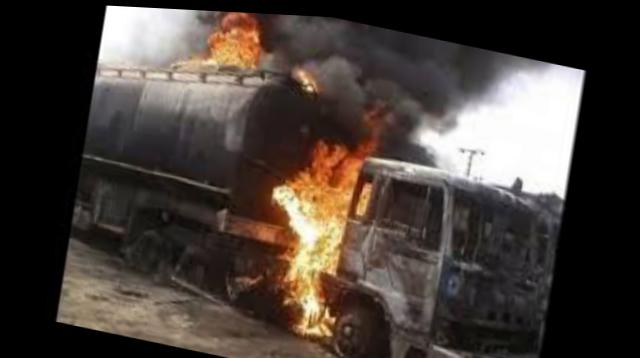fire: (246, 113, 400, 353), (190, 8, 284, 77), (284, 54, 336, 103)
